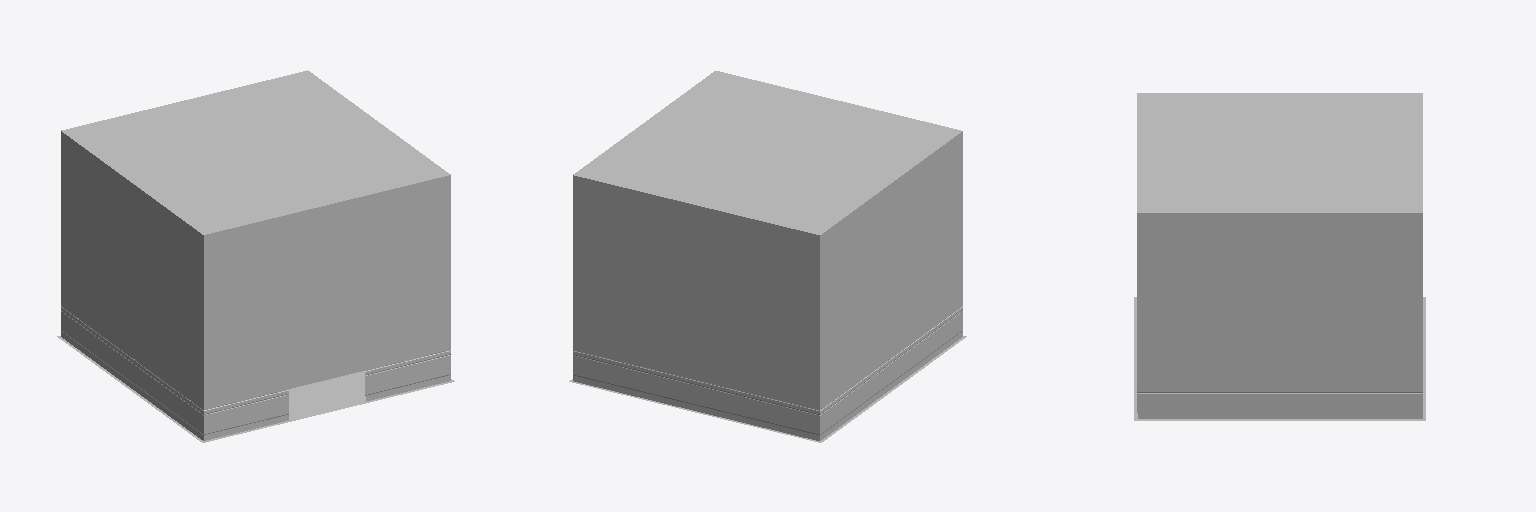
File: Anubis_OneDoorRoom.obj
3 views of the same model, side by side, from view 1: azimuth 30°, elevation 25°; view 2: azimuth 150°, elevation 25°; view 3: azimuth 270°, elevation 25° (orthographic).
Visible parts, largest first — view 1: Walls, Ceiling, WallTrim, Floor; view 2: Walls, Ceiling, WallTrim, Floor; view 3: Walls, Ceiling, WallTrim, Floor.
Boxes of the visible parts, x1,y1,x2,y2 form: Walls: [61, 131, 450, 409]; Ceiling: [61, 70, 450, 234]; WallTrim: [61, 306, 450, 440]; Floor: [57, 336, 454, 442]; Walls: [573, 131, 962, 409]; Ceiling: [573, 71, 961, 234]; WallTrim: [573, 306, 962, 440]; Floor: [569, 336, 966, 442]; Walls: [1137, 213, 1422, 387]; Ceiling: [1137, 93, 1422, 212]; WallTrim: [1137, 388, 1422, 418]; Floor: [1134, 297, 1425, 420].
Size of the model in its own units: 10 by 7.8 by 10.